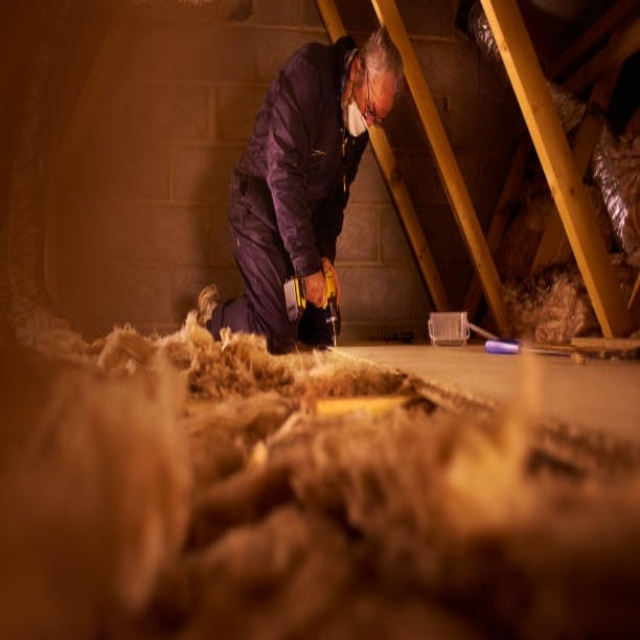Gafas: (364, 64, 387, 126)
Mascara: (345, 76, 370, 137)
Sin_guantes: (302, 266, 335, 312)
